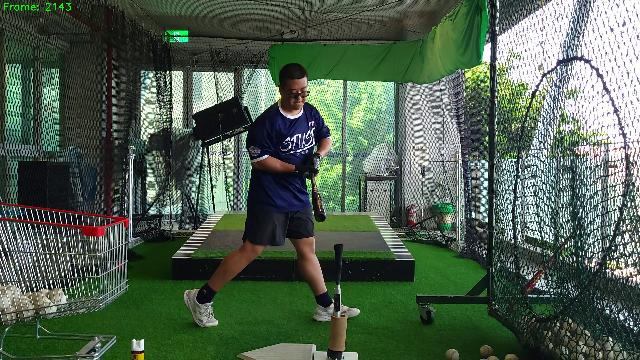baseball bat: (310, 173, 326, 223)
